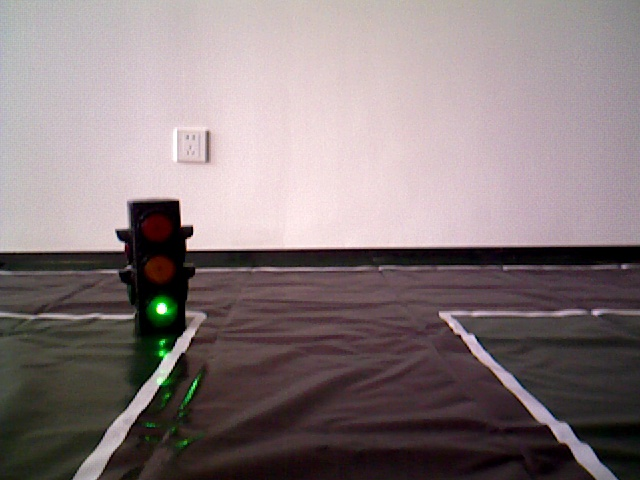green: (133, 205, 181, 326)
